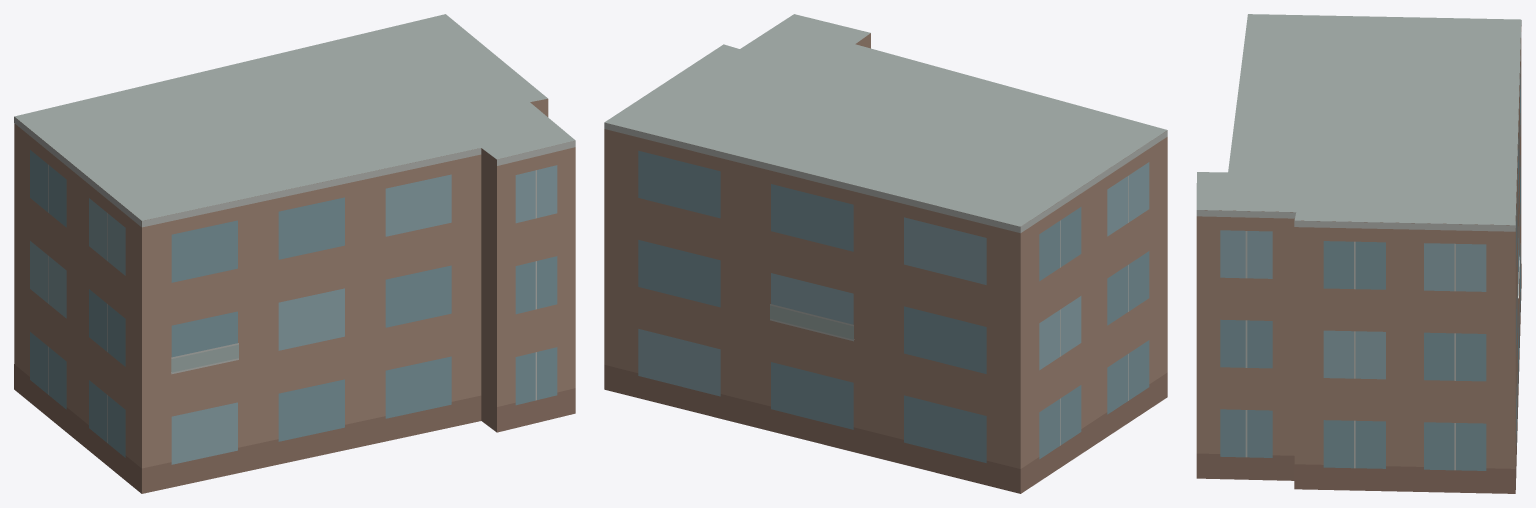
The model's file is survey-upis-32525124.glb.
The picture shows the model from 3 angles, left to right: view 1: azimuth 30°, elevation 25°; view 2: azimuth 150°, elevation 25°; view 3: azimuth 270°, elevation 25°; orthographic projection. The views are drawn at different scales.
Visible parts, largest first — view 1: survey-upis-32525124.tmp; view 2: survey-upis-32525124.tmp; view 3: survey-upis-32525124.tmp.
Part boxes in pixels (bbox=[...]): survey-upis-32525124.tmp: bbox=[14, 14, 575, 493]; survey-upis-32525124.tmp: bbox=[604, 14, 1167, 493]; survey-upis-32525124.tmp: bbox=[1196, 14, 1521, 493].
Size of the model in its own units: 17.04 by 10.1 by 11.08.
